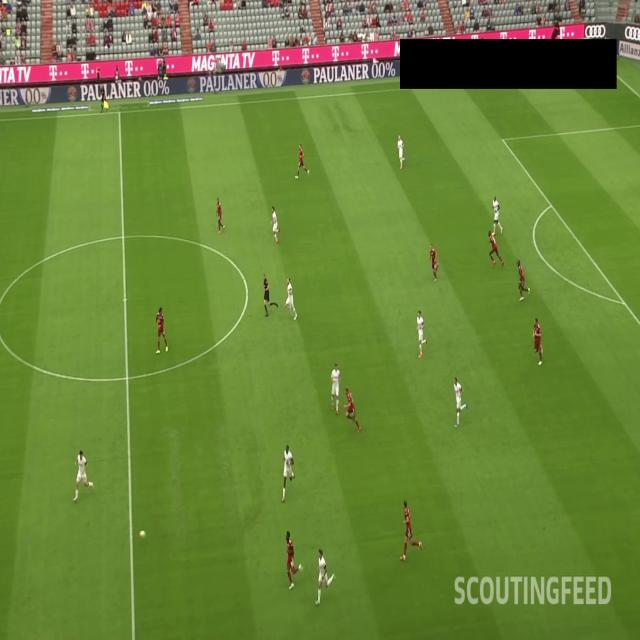ball: (136, 524, 148, 543)
player: (399, 498, 424, 560), (69, 446, 95, 503), (314, 544, 338, 604), (282, 527, 304, 592), (278, 441, 297, 507), (449, 375, 470, 431), (151, 301, 170, 354), (344, 382, 361, 432), (327, 358, 342, 413), (282, 274, 298, 324), (486, 229, 505, 270), (415, 305, 429, 360), (530, 315, 544, 367), (515, 257, 530, 303), (294, 138, 310, 179), (490, 191, 504, 237), (427, 238, 440, 283), (270, 205, 284, 246), (396, 128, 408, 174), (213, 193, 225, 238)
referee: (260, 270, 280, 318), (98, 78, 109, 113)
